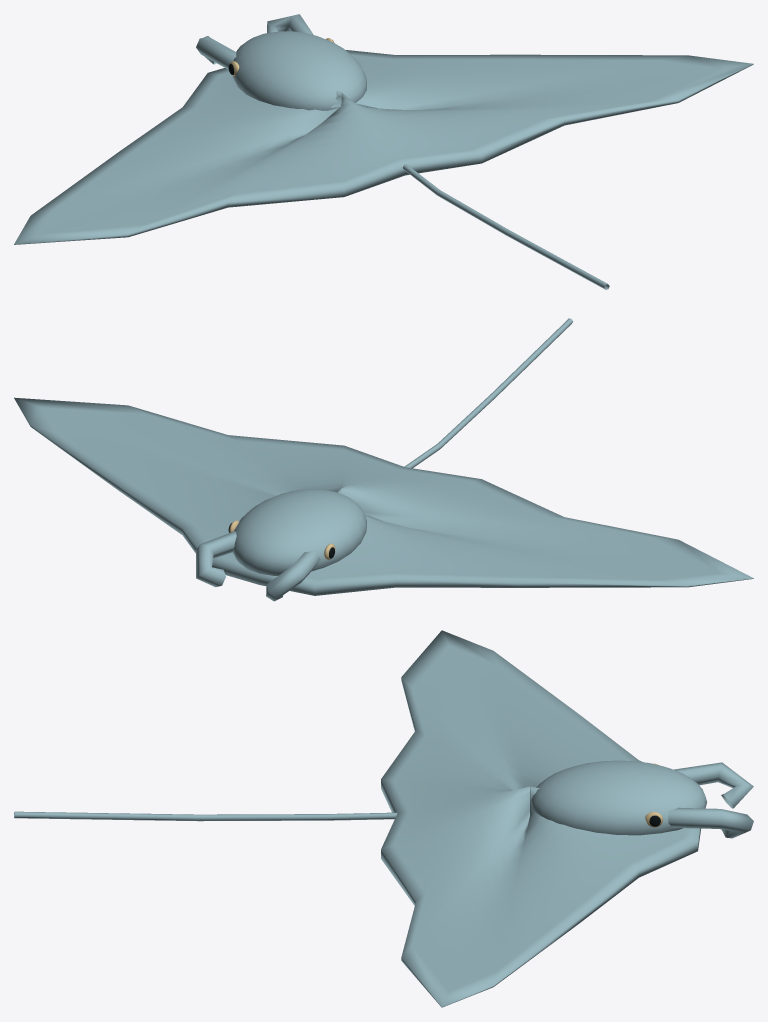
File: manta_ray.glb
The picture shows the model from 3 angles, top to bottom: view 1: azimuth 30°, elevation 25°; view 2: azimuth 150°, elevation 25°; view 3: azimuth 270°, elevation 25°; orthographic projection. The views are drawn at different scales.
Visible parts, largest first — view 1: FishSkin; view 2: FishSkin; view 3: FishSkin.
Boxes of the visible parts, x1,y1,x2,y2 form: FishSkin: (14,14,753,289); FishSkin: (14,318,753,601); FishSkin: (14,630,753,1007).
Bounding box in the file's own units: 4.84 × 0.4847 × 4.02.
